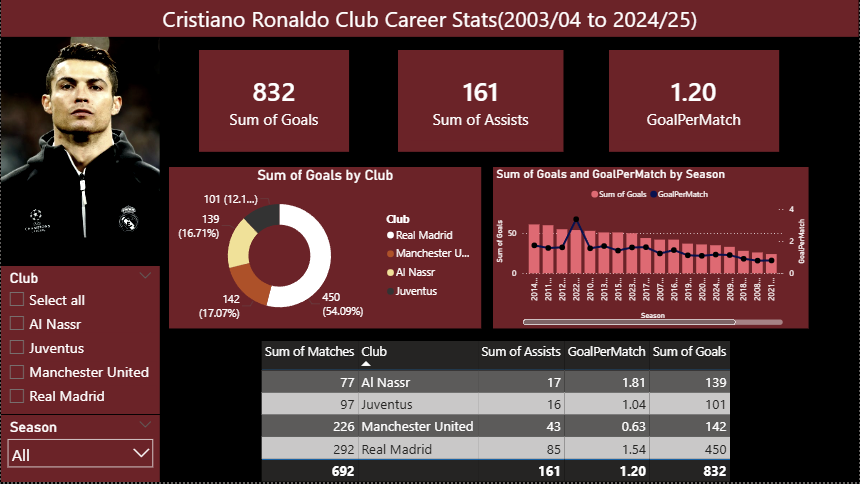

What the dashboard file says about the page in this screenshot:
{"tool":"powerbi","page":{"name":"ronaldo","canvas":[1280,720],"ordinal":0},"visuals":[{"type":"image","box":[0,54,237.3,301.2],"z":0},{"type":"textbox","box":[0,0,1280.2,54.7],"z":1000},{"type":"cardVisual","fields":{"Data":["Sum(RonaldoSeasonStats.Goals)"]},"box":[296.3,75.3,224.2,152.2],"z":2000},{"type":"cardVisual","fields":{"Data":["Sum(RonaldoSeasonStats.Assists)"]},"box":[592.5,75.3,247.2,152.2],"z":3000},{"type":"cardVisual","fields":{"Data":["RonaldoSeasonStats.GoalPerMatch"]},"box":[906.8,75.3,253.7,152.2],"z":4000},{"type":"donutChart","fields":{"Category":["RonaldoSeasonStats.Club"],"Y":["Sum(RonaldoSeasonStats.Goals)"]},"box":[250.4,248.8,466.5,240.6],"z":5000},{"type":"lineStackedColumnComboChart","fields":{"Category":["RonaldoSeasonStats.Season"],"Y":["Sum(RonaldoSeasonStats.Goals)"],"Y2":["RonaldoSeasonStats.GoalPerMatch"]},"box":[734.9,248.8,471.4,240.6],"z":6000},{"type":"slicer","fields":{"Values":["RonaldoSeasonStats.Club"]},"box":[0,397.7,237.3,221],"z":7000},{"type":"slicer","fields":{"Values":["RonaldoSeasonStats.Season"]},"box":[0,618.7,237.3,101.5],"z":8000},{"type":"tableEx","fields":{"Values":["Sum(RonaldoSeasonStats.Matches)","RonaldoSeasonStats.Club","Sum(RonaldoSeasonStats.Assists)","RonaldoSeasonStats.GoalPerMatch","Sum(RonaldoSeasonStats.Goals)"]},"box":[387.9,509.1,702.2,211.2],"z":9000}]}

Visuals, with their boxes in screenshot pixels (x1, y1, x2, y2), scaled from the page's 1280x720 canvas onto the 860x484 screenshot:
image: select_region(0, 36, 159, 239)
textbox: select_region(0, 0, 859, 37)
cardVisual - Sum(RonaldoSeasonStats.Goals): select_region(199, 51, 350, 153)
cardVisual - Sum(RonaldoSeasonStats.Assists): select_region(398, 51, 564, 153)
cardVisual - RonaldoSeasonStats.GoalPerMatch: select_region(609, 51, 780, 153)
donutChart - RonaldoSeasonStats.Club x Sum(RonaldoSeasonStats.Goals): select_region(168, 167, 482, 329)
lineStackedColumnComboChart - RonaldoSeasonStats.Season x Sum(RonaldoSeasonStats.Goals): select_region(494, 167, 810, 329)
slicer - RonaldoSeasonStats.Club: select_region(0, 267, 159, 416)
slicer - RonaldoSeasonStats.Season: select_region(0, 416, 159, 483)
tableEx - Sum(RonaldoSeasonStats.Matches) x RonaldoSeasonStats.Club: select_region(261, 342, 732, 483)
